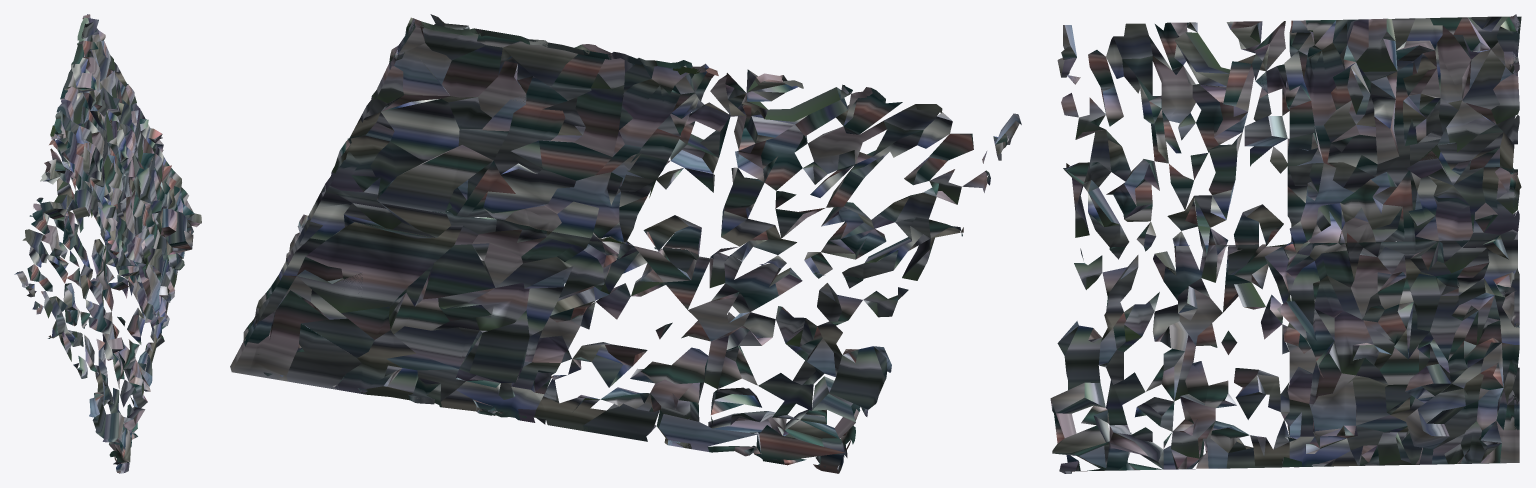
3 renders of one model, left to right at view 1: azimuth 30°, elevation 25°; view 2: azimuth 150°, elevation 25°; view 3: azimuth 270°, elevation 25°, orthographic. The views are drawn at different scales.
Visible parts, largest first — view 1: node_3043627270436142_mesh0, node_3043627270436142_mesh1; view 2: node_3043627270436142_mesh0, node_3043627270436142_mesh1; view 3: node_3043627270436142_mesh0, node_3043627270436142_mesh1.
Boxes of the visible parts, left/top/right/bottom form: node_3043627270436142_mesh0: left=14, top=14, right=201, bottom=473; node_3043627270436142_mesh1: left=26, top=22, right=199, bottom=473; node_3043627270436142_mesh0: left=230, top=14, right=1021, bottom=469; node_3043627270436142_mesh1: left=279, top=14, right=1007, bottom=473; node_3043627270436142_mesh0: left=1050, top=14, right=1521, bottom=473; node_3043627270436142_mesh1: left=1059, top=16, right=1515, bottom=473.
Bounding box in the file's own units: 579 × 585 × 461.
2 materials, 2 textured.
